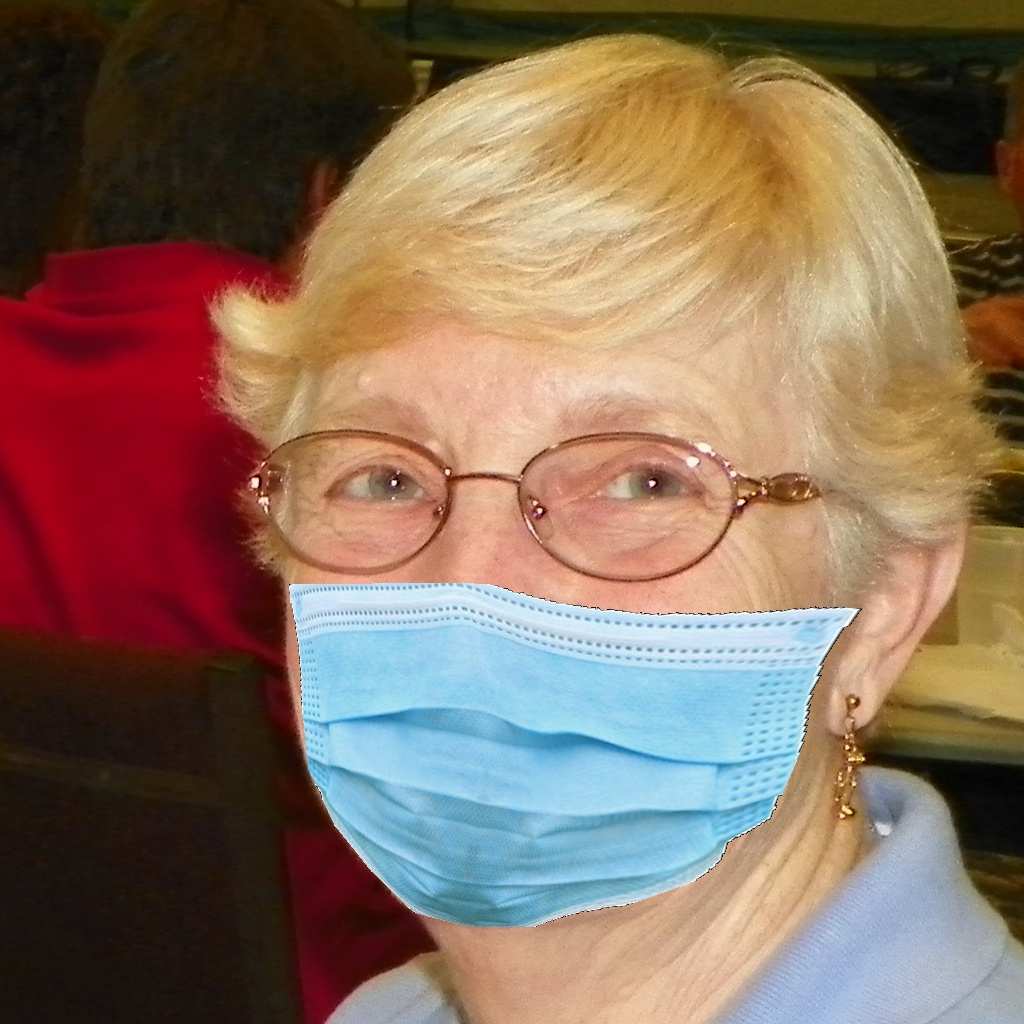Mask: (282, 366, 846, 928)
